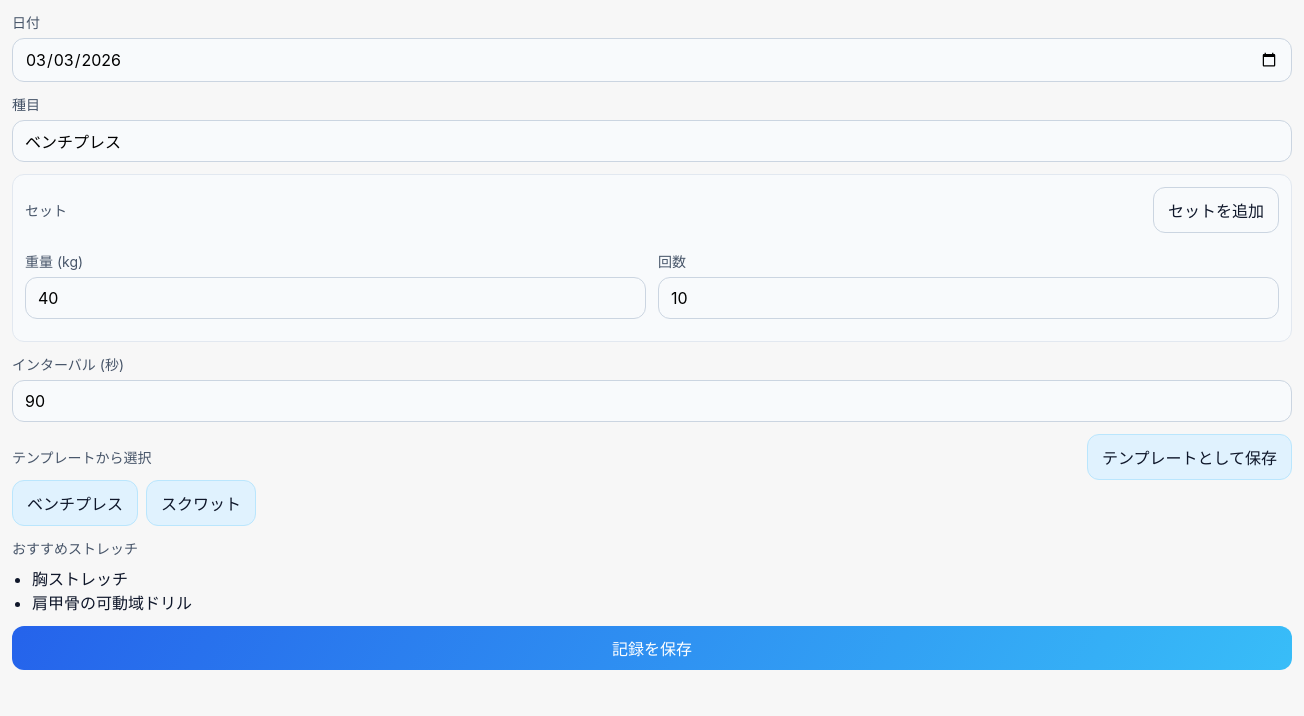
Test: TrainingLogForm Set Deletion › should remove the set when delete button is clicked
Note: Add two sets to make it 3 total
Step 1. Click the button "セットを追加" → point(1216, 210), box [1153,187,1279,233]
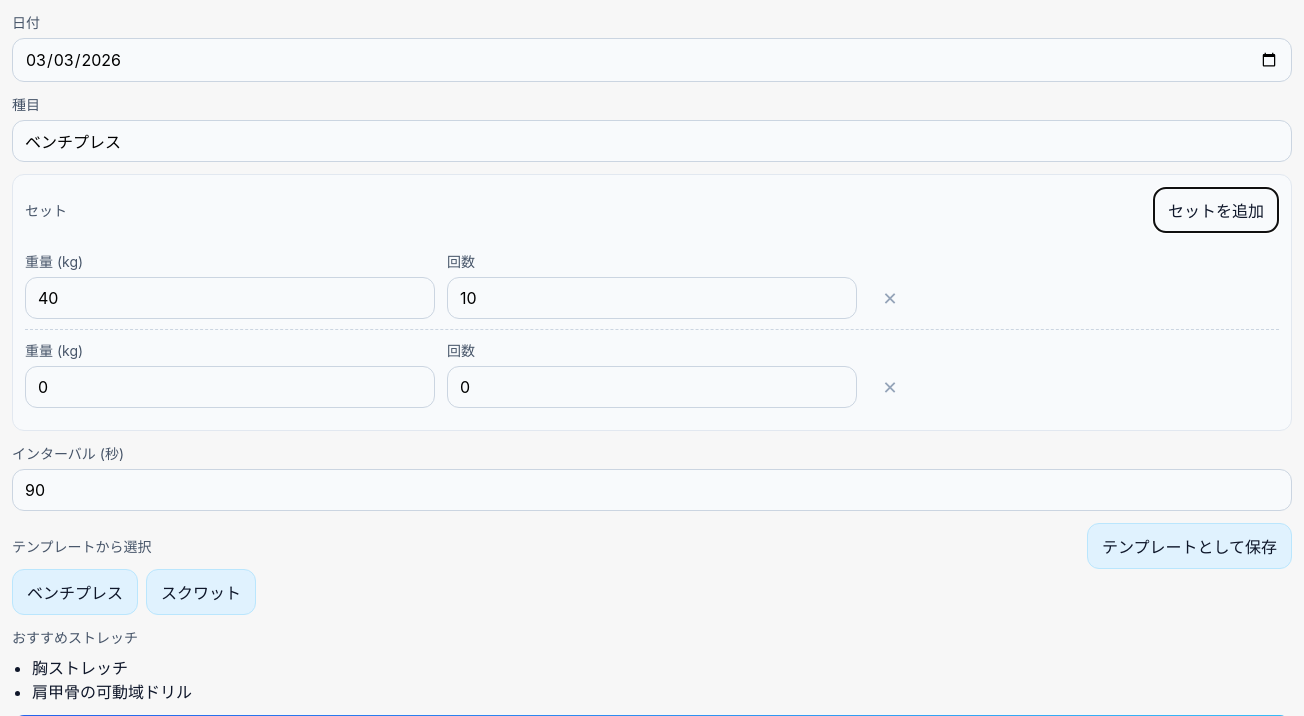
Step 2. Click the button "セットを追加" → point(1216, 210), box [1153,187,1279,233]
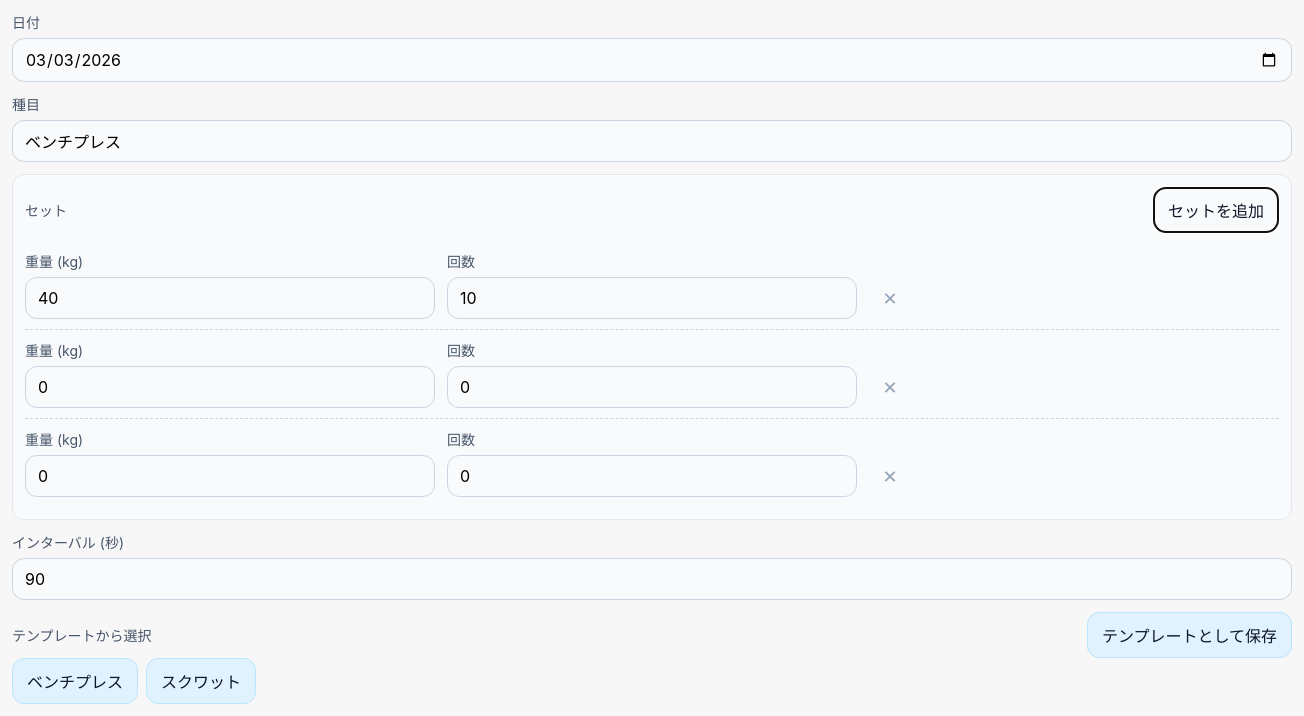
Expected: the number of buttons named "セットを削除" is 3
Note: Delete the second set
Step 3. Click the button named "セットを削除" → point(890, 387), box [869,366,911,408]
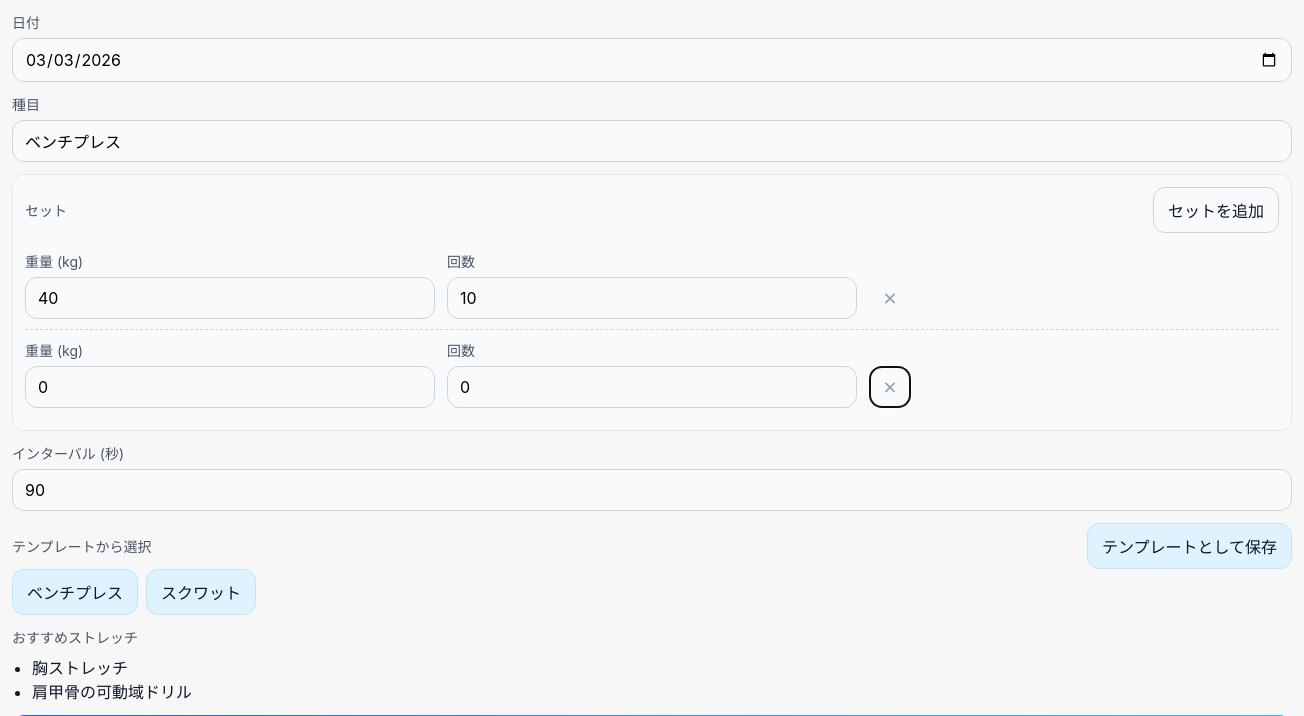
Expected: the number of buttons named "セットを削除" is 2, [869,277,911,319]; [869,366,911,408]
